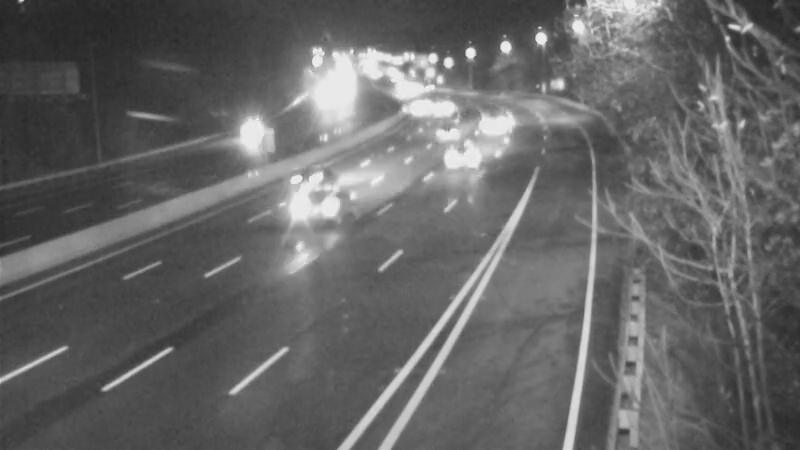vehicle: (420, 117, 500, 197), (261, 139, 341, 219), (281, 162, 361, 242), (418, 78, 468, 128), (386, 81, 436, 131), (418, 109, 468, 159), (469, 99, 519, 149), (225, 106, 275, 156)
